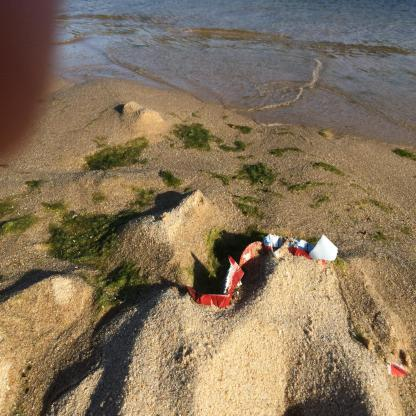kagit: (310, 235, 339, 263)
plastik: (187, 256, 246, 309), (264, 231, 316, 260), (240, 242, 267, 275)
